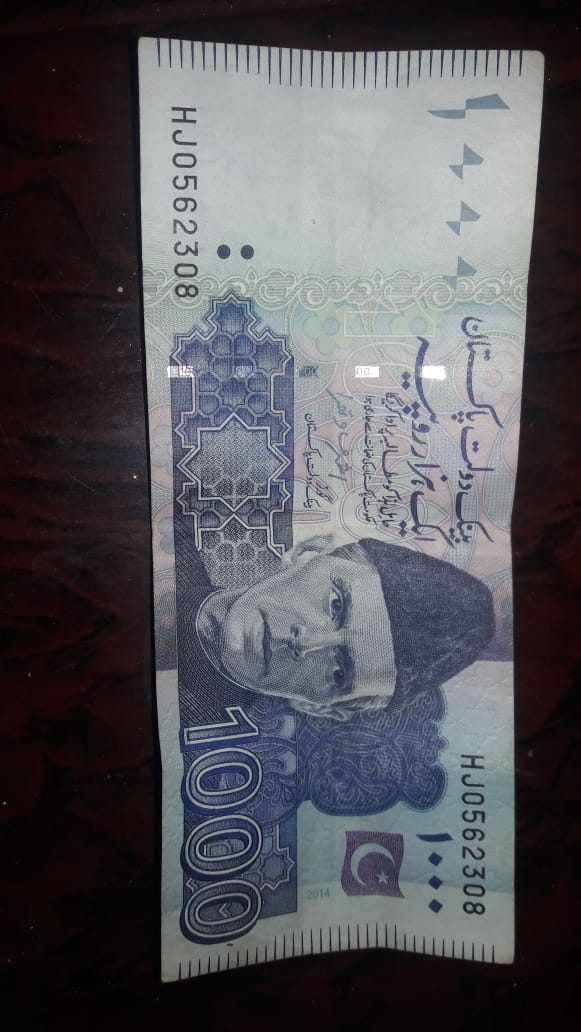1000 rupee: (117, 24, 547, 1025)
